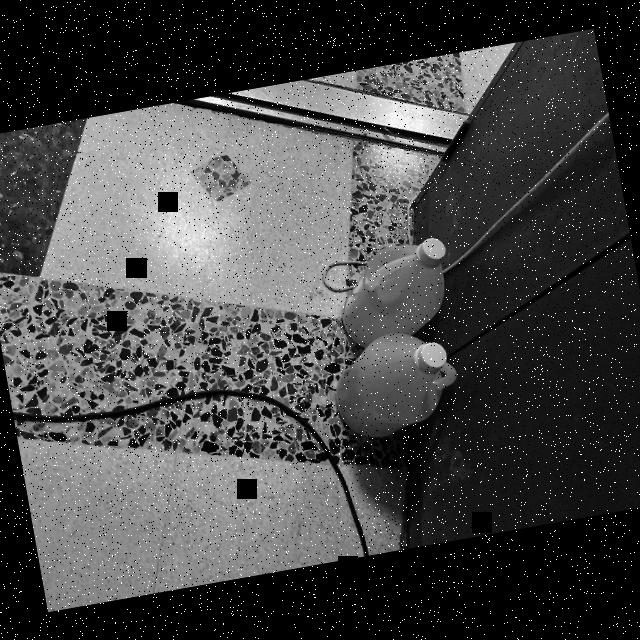chemical_plastic_gallon: (322, 320, 468, 444), (322, 232, 461, 352)
